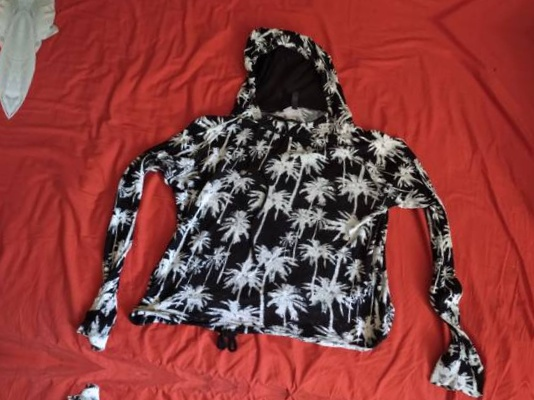Hoodie: (51, 0, 516, 400), (0, 371, 463, 400), (109, 0, 534, 4)
